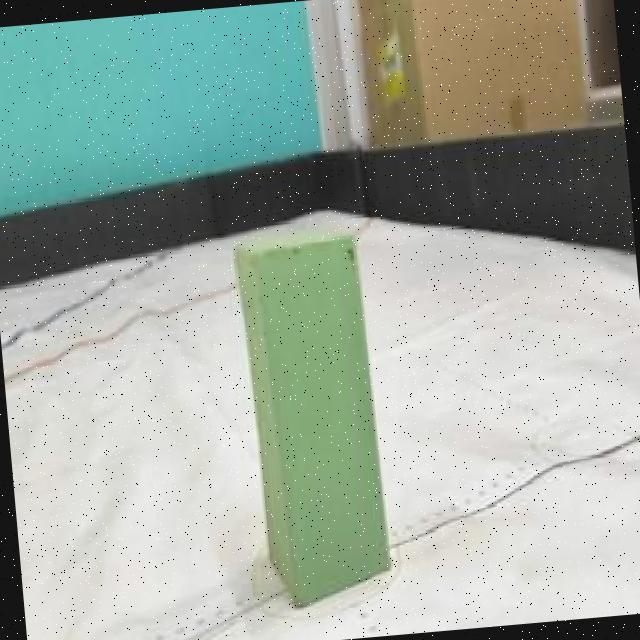greenbox: (226, 218, 398, 613)
